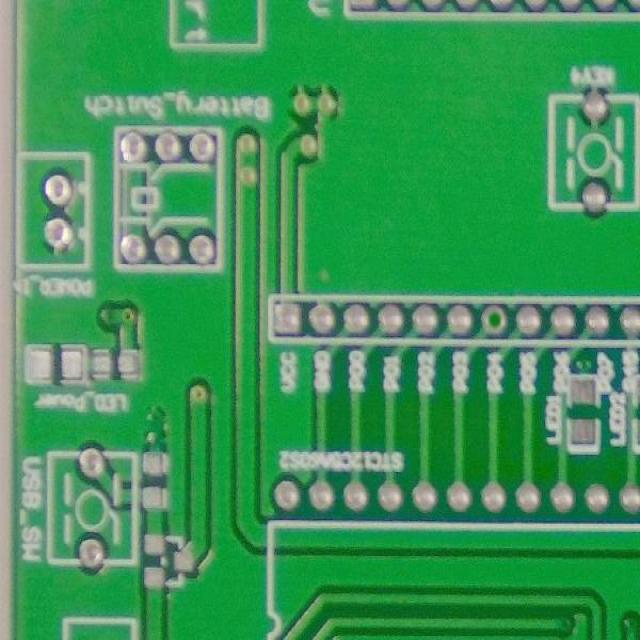missing hole: (478, 297, 513, 340)
